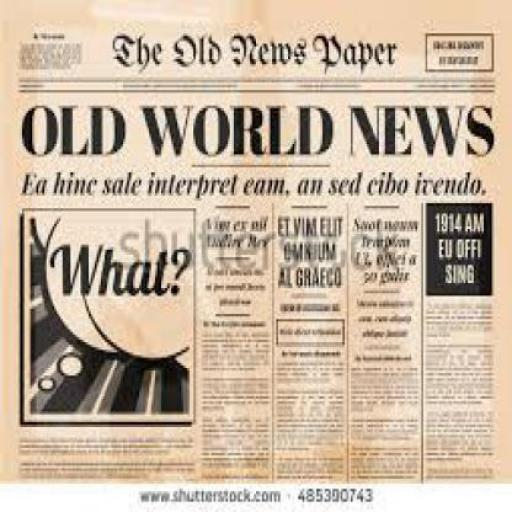paper: (0, 0, 511, 480)
